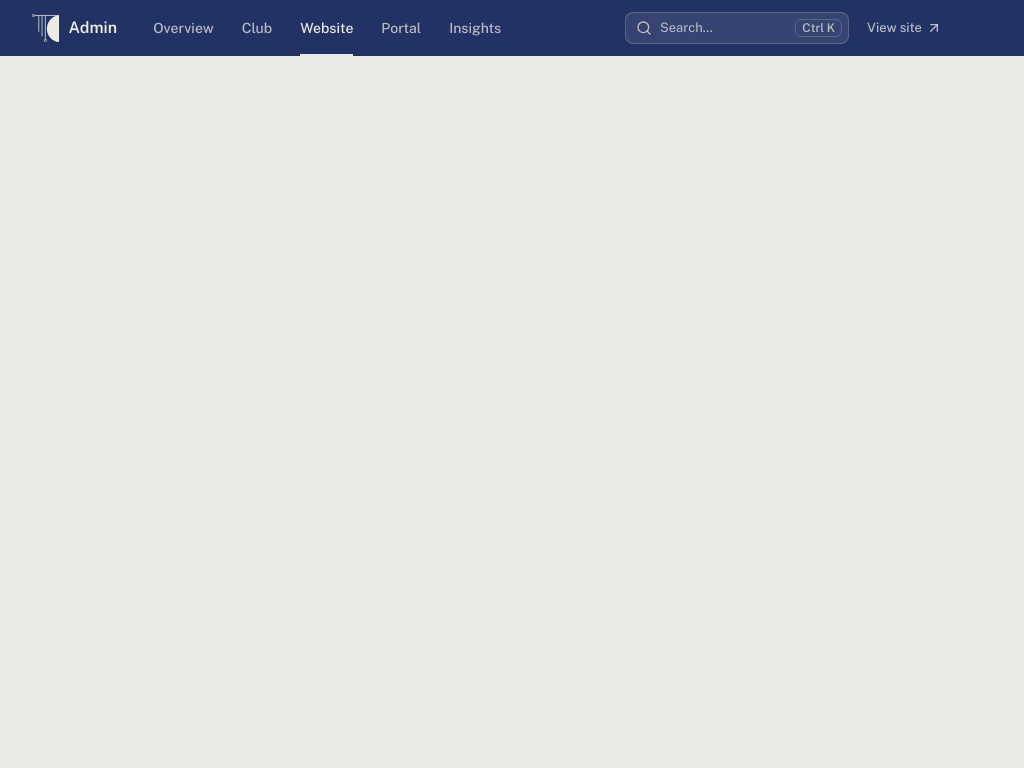
Test: CommandPalette › moves with the arrow keys (wrapping) and opens with Enter
The width and height of the screenshot is (1024, 768).
Press k
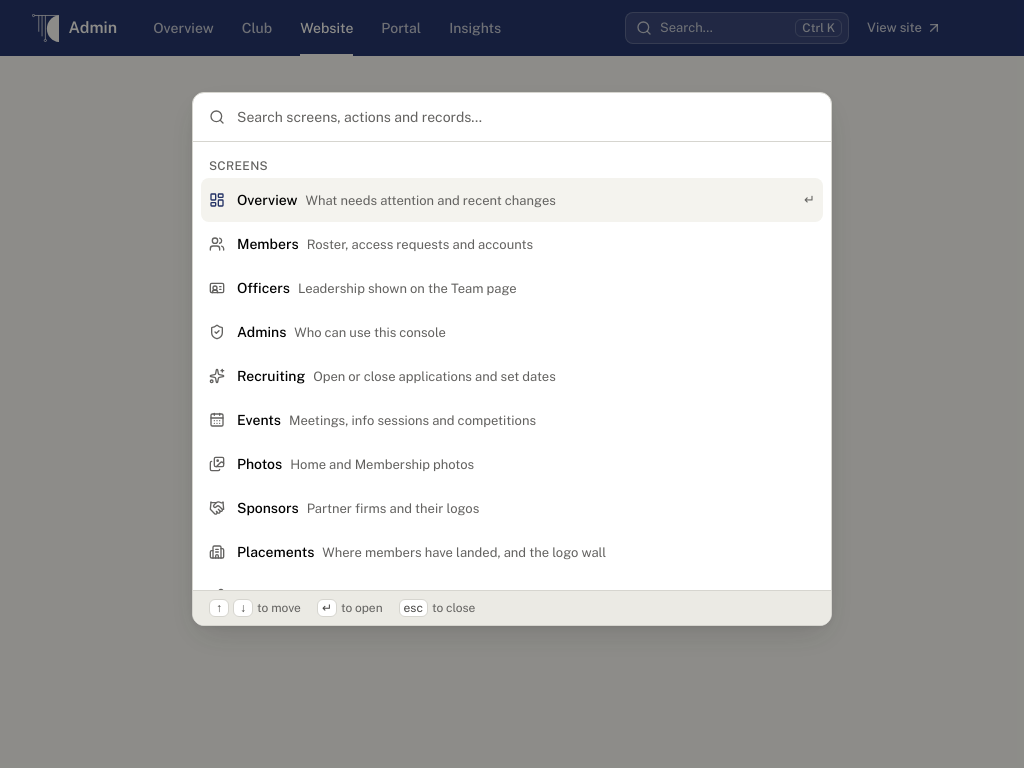
Type "event" into the dropdown at (526,117), box [237, 93, 815, 141]
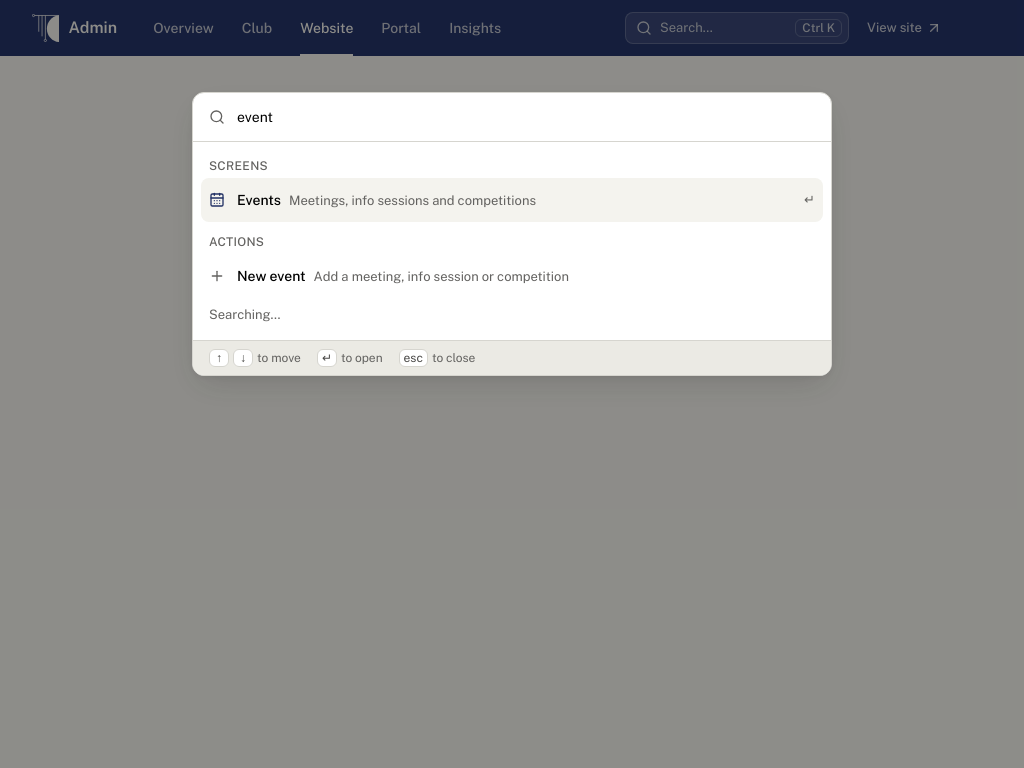
Expected: the option that starts with "Events" is selected, [201, 178, 823, 222]
Press ArrowDown in the dropdown, box [237, 93, 815, 141]
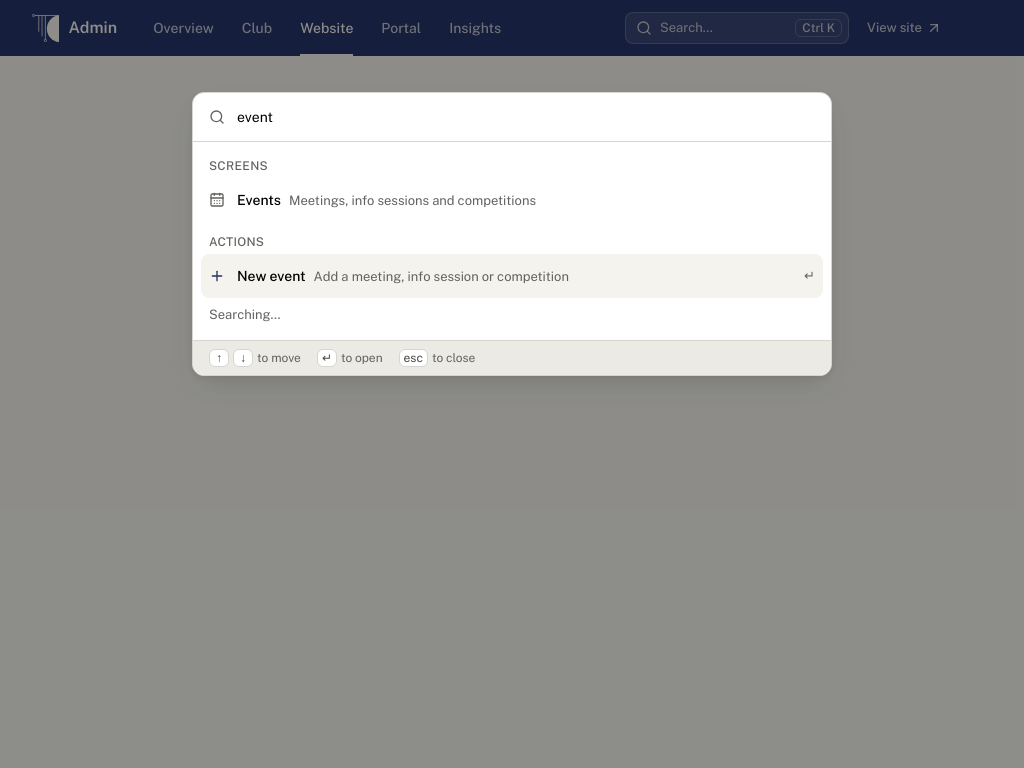
Expected: the option that starts with "New event" is shown, [201, 254, 823, 298]
Press Enter in the dropdown, box [237, 93, 815, 141]
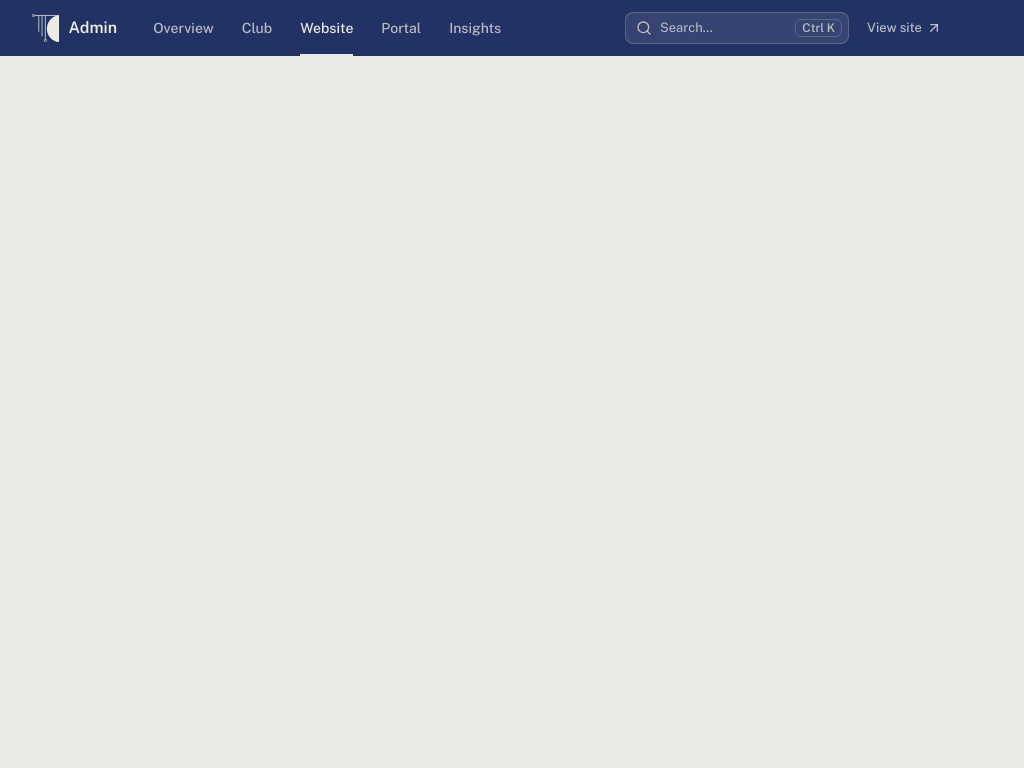
Expected: the dropdown is gone
